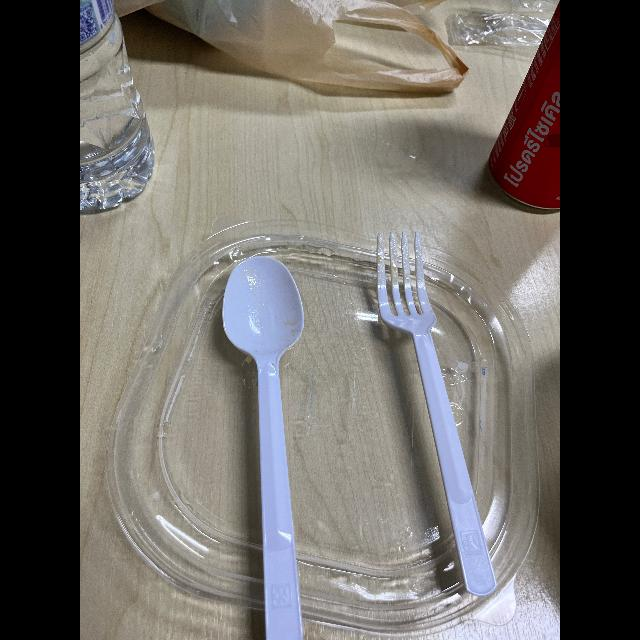plastic_cultery: (368, 222, 496, 616), (210, 246, 328, 640)
